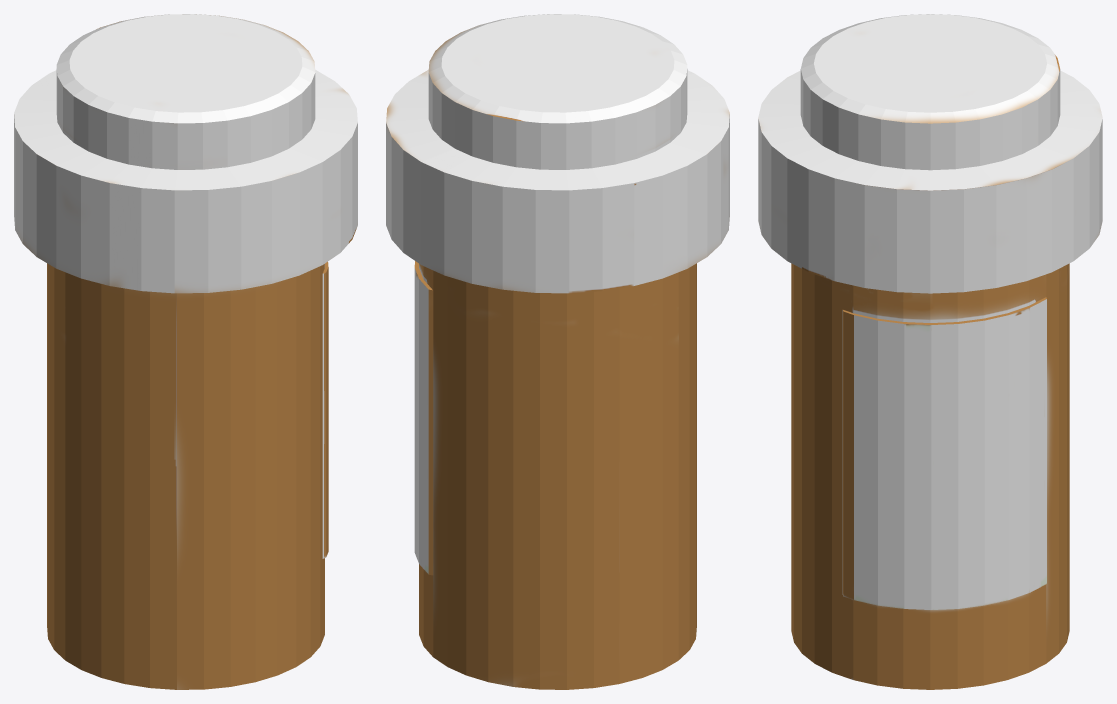
The model's file is Painkiller.fbx.
3 renders of one model, left to right at view 1: azimuth 30°, elevation 25°; view 2: azimuth 150°, elevation 25°; view 3: azimuth 270°, elevation 25°, orthographic.
Parts seen in each view (by area): view 1: Cylinder; view 2: Cylinder; view 3: Cylinder.
Boxes of the visible parts, left/top/right/bottom form: Cylinder: left=14, top=14, right=357, bottom=689; Cylinder: left=386, top=14, right=729, bottom=689; Cylinder: left=758, top=14, right=1102, bottom=689.
Bounding box in the file's own units: 14.86 × 27.02 × 14.86.
